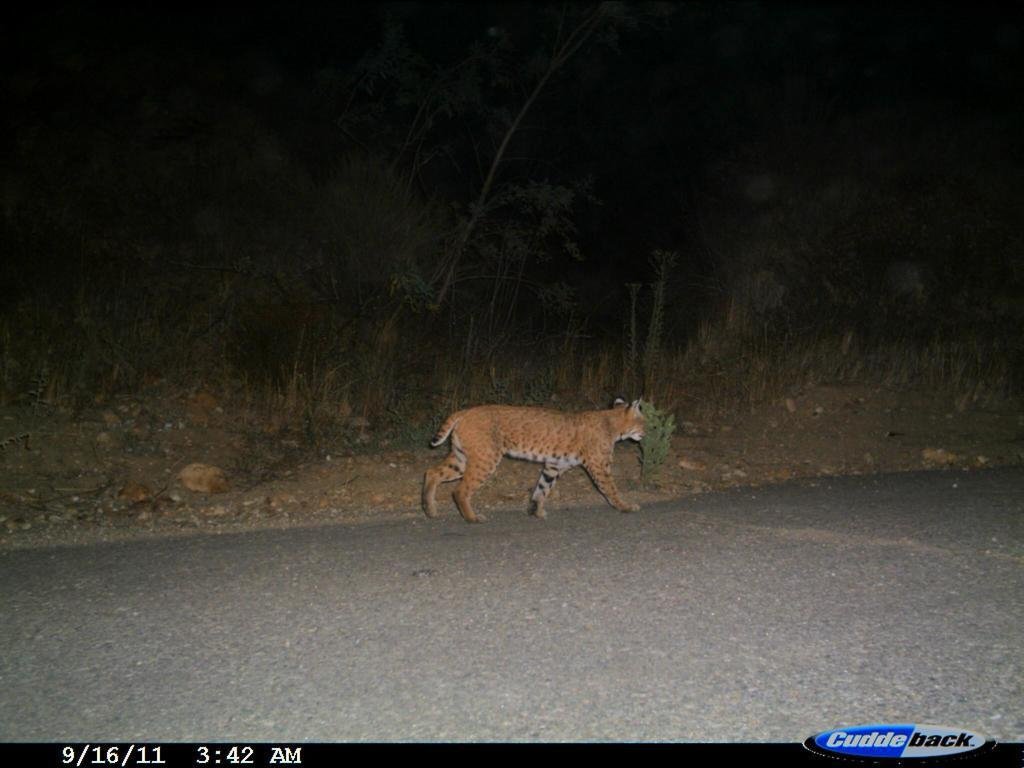bobcat: (415, 399, 653, 524)
